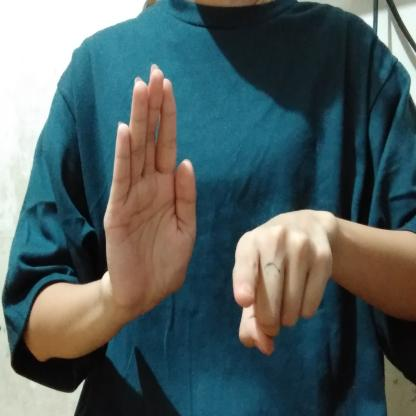stop: (97, 60, 352, 363)
